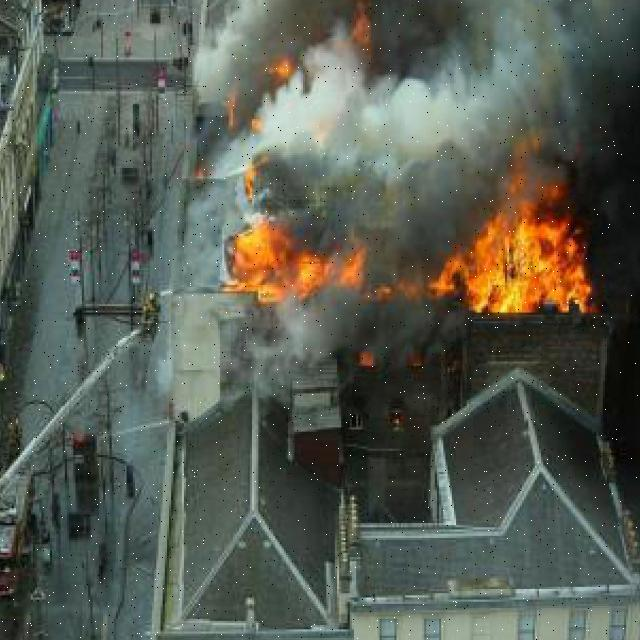fire: (439, 215, 592, 325), (228, 198, 364, 308), (345, 0, 384, 77), (213, 96, 260, 134), (262, 47, 294, 91), (235, 157, 260, 202)
smoke: (416, 0, 639, 196), (269, 74, 490, 226)
